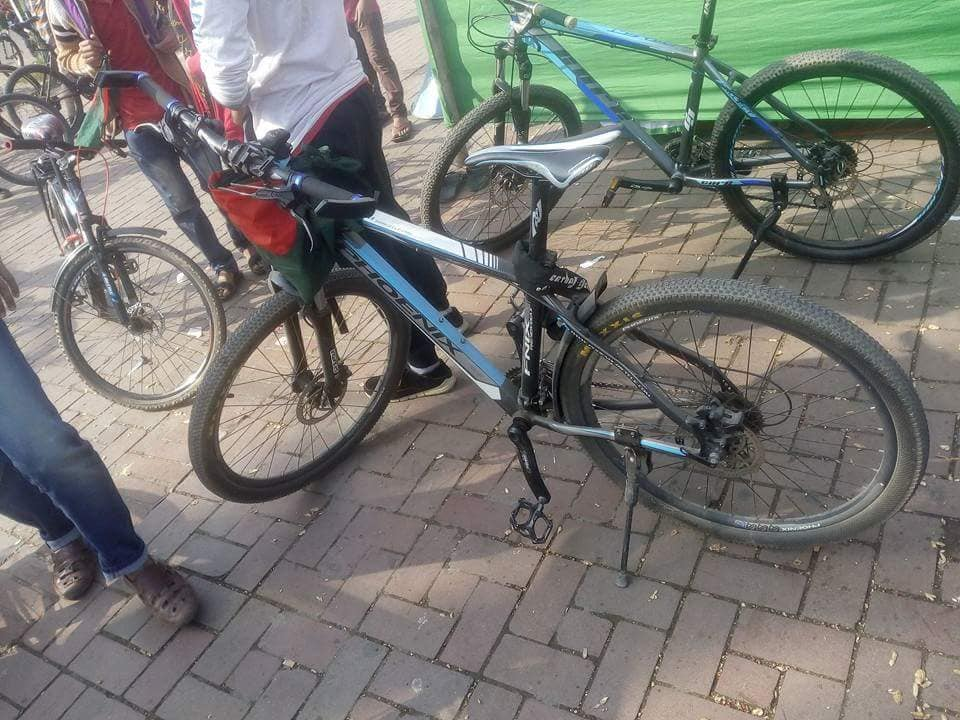bicycle: (84, 22, 944, 588), (426, 1, 955, 288), (4, 103, 223, 394)
